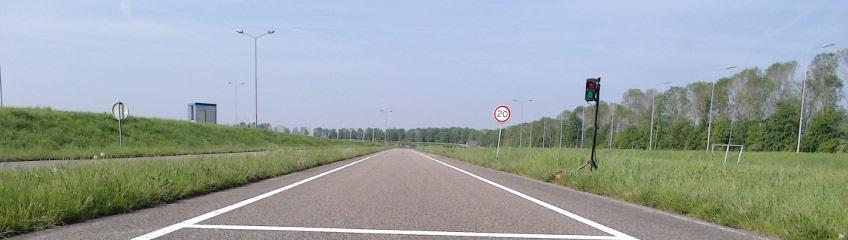Speed-limit-20km-h-: (494, 106, 510, 122)
TrafficLight-green: (585, 79, 599, 101)
